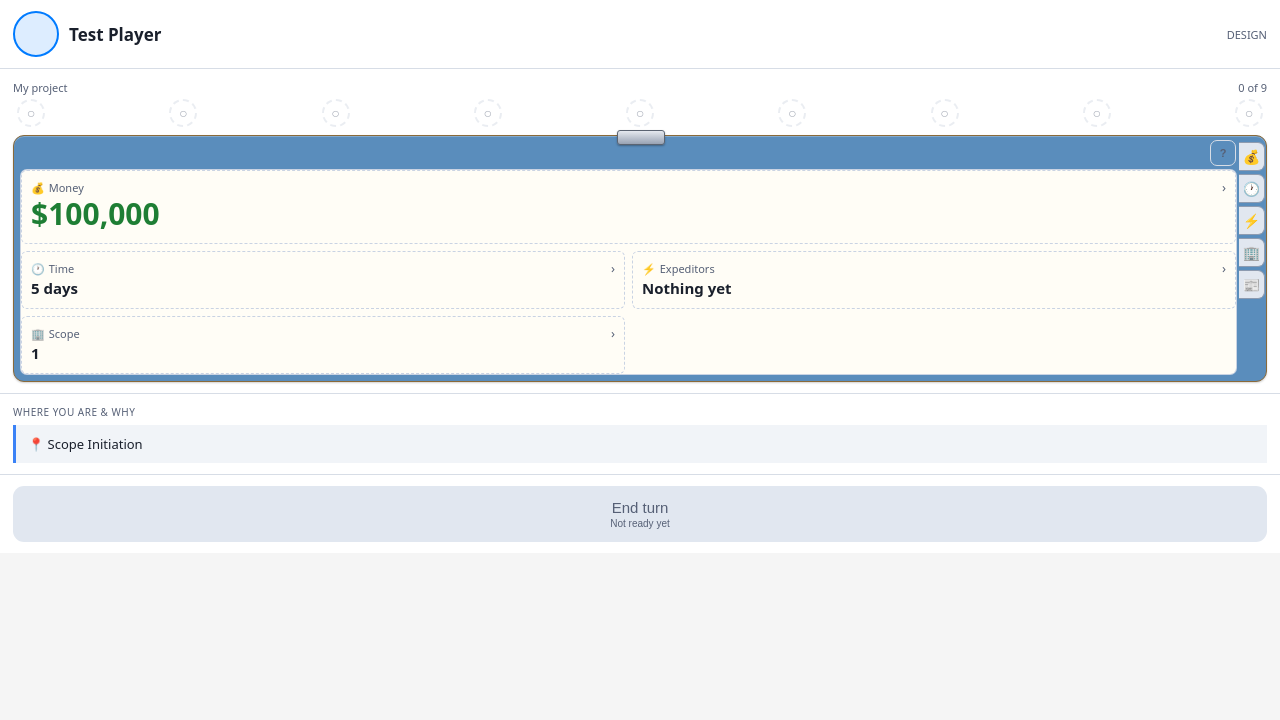
Test: PlayerPanelV2 — at-a-glance boxes replace "What's affecting you" (fb:adad1561) › a life event drawn this turn shows the tab and is listed on the page
Click the button with test id "clipboard-tab-life": [1252, 284] box [1239, 270, 1265, 299]
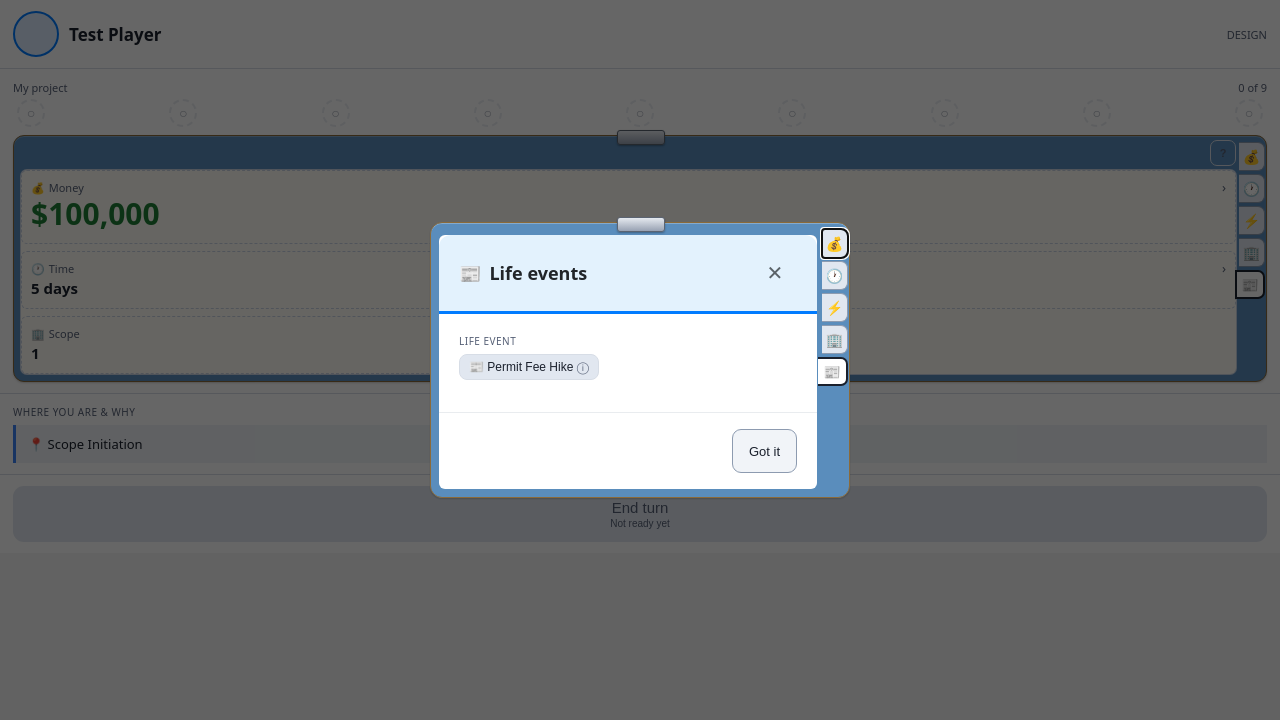
Check: the element with test id "chronicle-history-cards" shows "Permit Fee Hike", box [459, 354, 599, 380]
